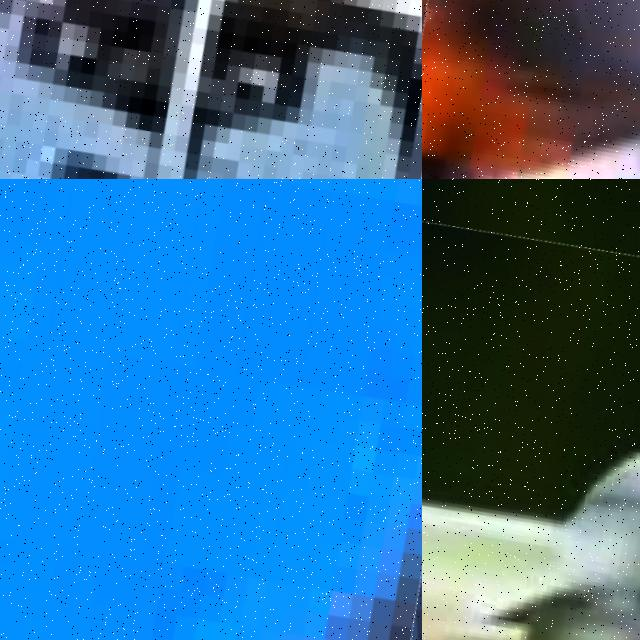0: (0, 0, 422, 179), (422, 0, 640, 179)
drone: (0, 179, 422, 640), (422, 179, 640, 640)
